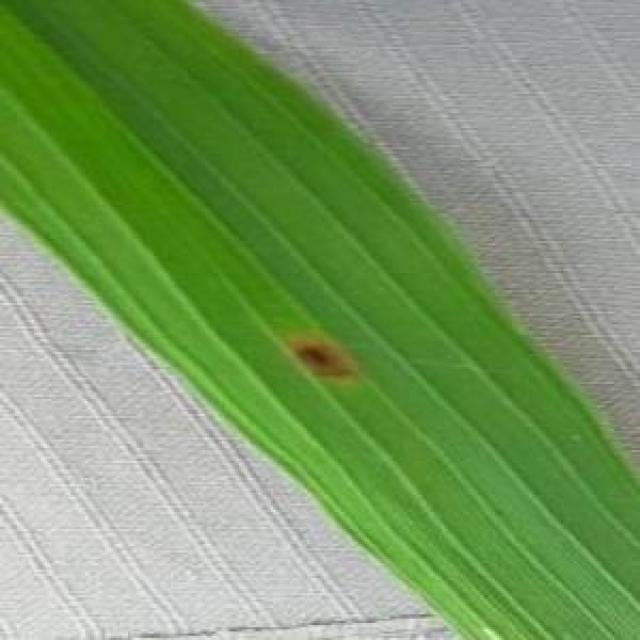Brown_Spot: (284, 336, 356, 378)
